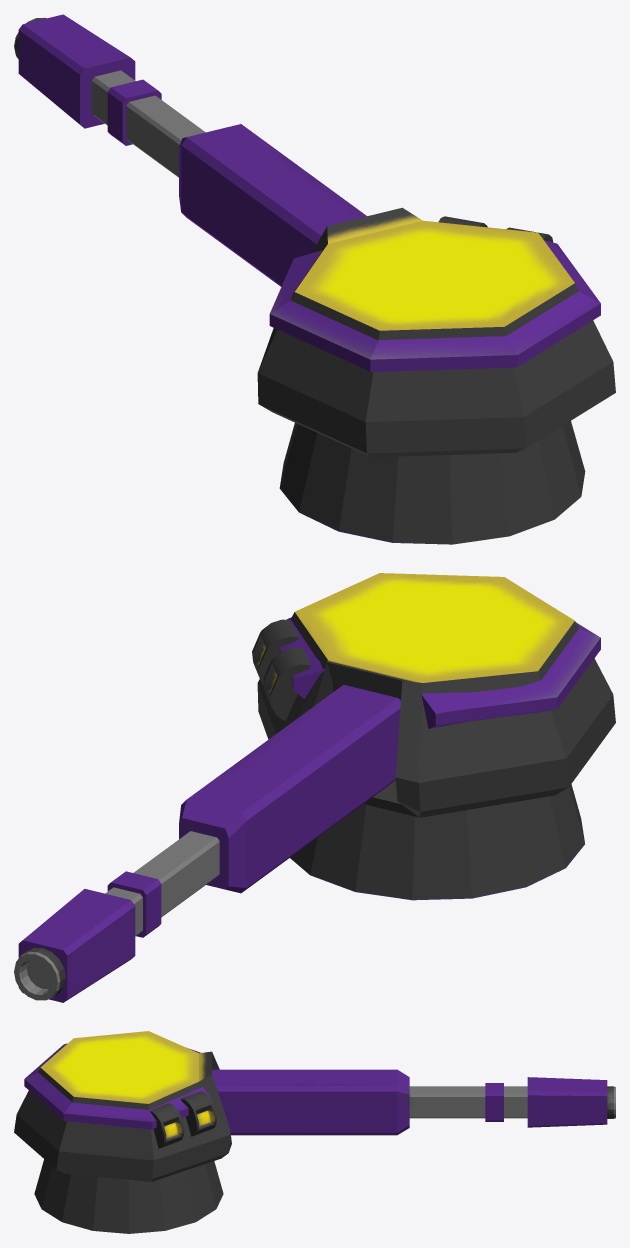
The model's file is Alivasion_Guns_UltraLaserGun.fbx.
3 renders of one model, top to bottom at view 1: azimuth 30°, elevation 25°; view 2: azimuth 150°, elevation 25°; view 3: azimuth 270°, elevation 25°, orthographic. The views are drawn at different scales.
Parts seen in each view (by area): view 1: UltraLaserGun; view 2: UltraLaserGun; view 3: UltraLaserGun.
Part boxes in pixels (x1,y1,x2,y2): UltraLaserGun: [14, 14, 615, 544]; UltraLaserGun: [14, 573, 615, 1002]; UltraLaserGun: [14, 1031, 615, 1233].
Size of the model in its own units: 481 by 316 by 1316.
